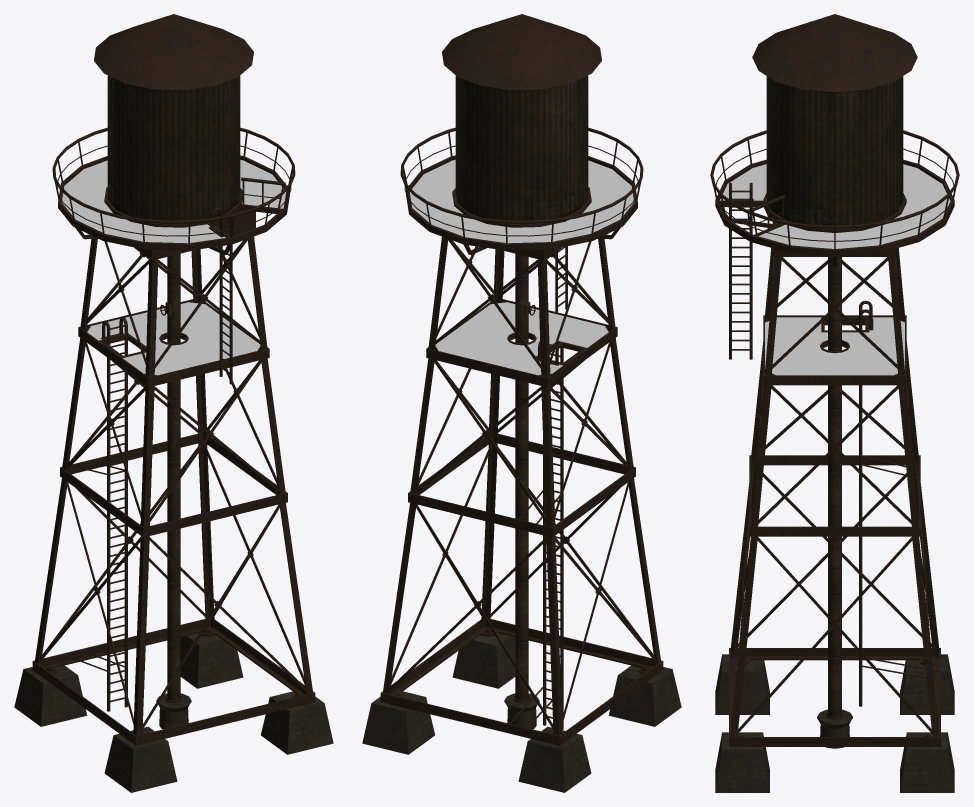
The model's file is water_tower_hm_1.fbx.
3 views of the same model, side by side, from view 1: azimuth 30°, elevation 25°; view 2: azimuth 150°, elevation 25°; view 3: azimuth 270°, elevation 25° (orthographic). The views are drawn at different scales.
Parts seen in each view (by area): view 1: water_tower_hm_1; view 2: water_tower_hm_1; view 3: water_tower_hm_1.
Part boxes in pixels (left/top/right/bottom): water_tower_hm_1: left=14, top=14, right=333, bottom=792; water_tower_hm_1: left=362, top=14, right=681, bottom=792; water_tower_hm_1: left=710, top=14, right=959, bottom=792.
Bounding box in the file's own units: 7.29 × 7.29 × 23.5.
